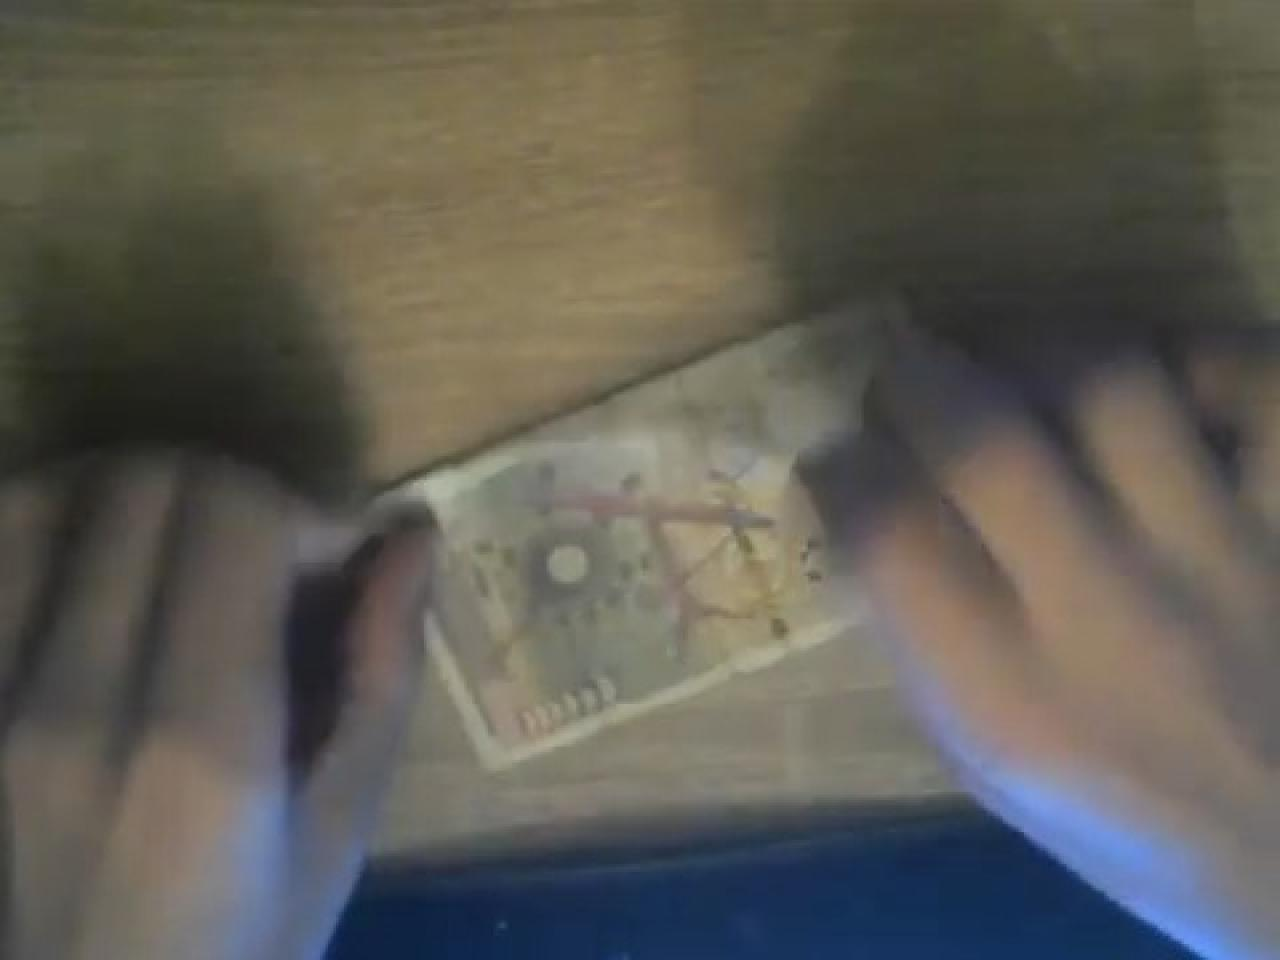10leva: (405, 339, 862, 768)
